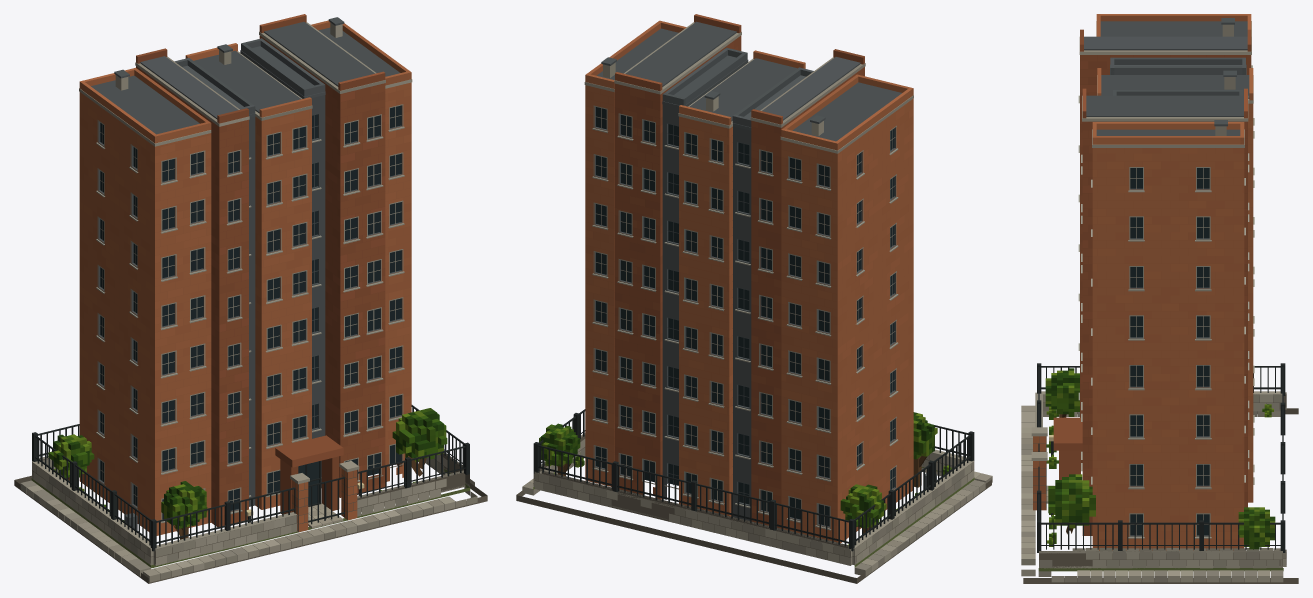
Rendered from SM_StreetFrontage_129.fbx.
3 renders of one model, left to right at view 1: azimuth 30°, elevation 25°; view 2: azimuth 150°, elevation 25°; view 3: azimuth 270°, elevation 25°, orthographic. The views are drawn at different scales.
Parts seen in each view (by area): view 1: SM_StreetFrontage_129; view 2: SM_StreetFrontage_129; view 3: SM_StreetFrontage_129.
Part boxes in pixels (x1,y1,x2,y2): SM_StreetFrontage_129: (14, 14, 487, 583); SM_StreetFrontage_129: (516, 14, 992, 583); SM_StreetFrontage_129: (1021, 14, 1298, 583).
Size of the model in its own units: 32 by 21.95 by 38.06.
